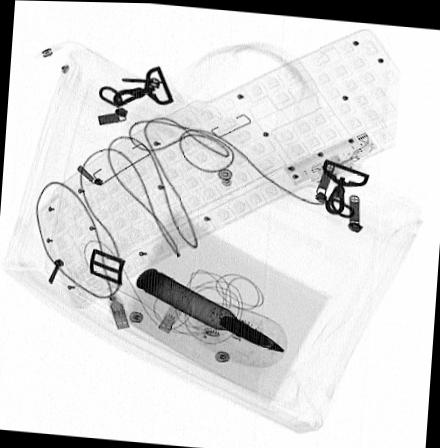Bullet: (136, 266, 287, 350)
